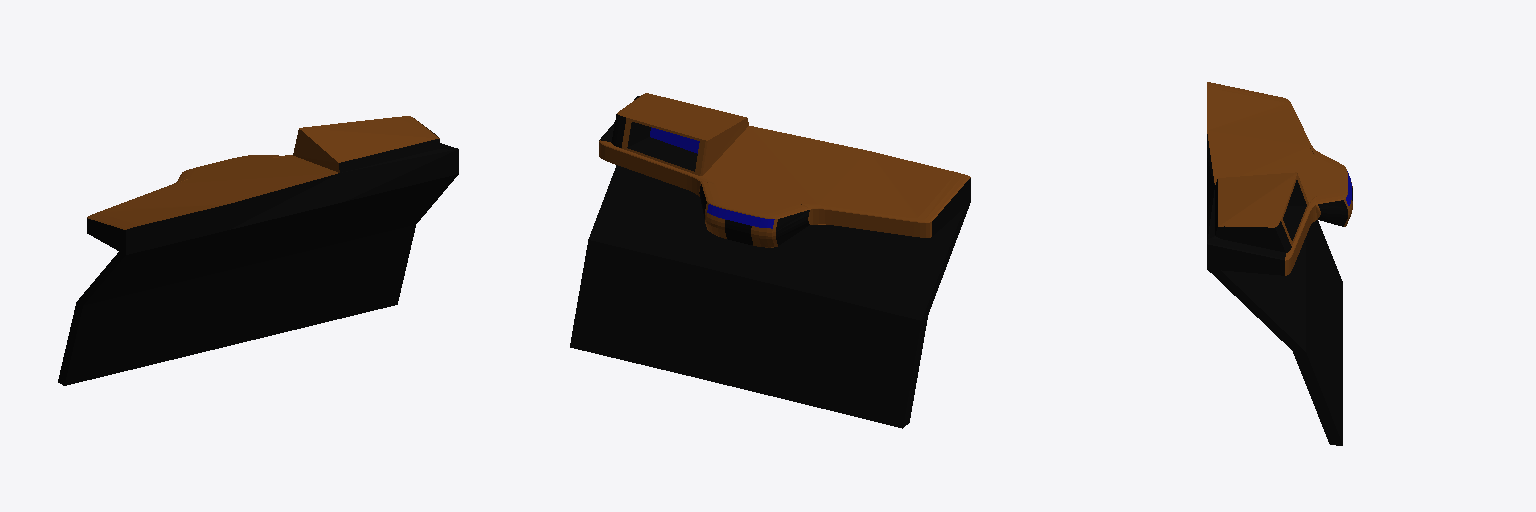
The model's file is dashboard.obj.
3 renders of one model, left to right at view 1: azimuth 30°, elevation 25°; view 2: azimuth 150°, elevation 25°; view 3: azimuth 270°, elevation 25°, orthographic.
Parts seen in each view (by area): view 1: Cube.003_Cube.011; view 2: Cube.003_Cube.011; view 3: Cube.003_Cube.011.
Part boxes in pixels (bbox=[...]): Cube.003_Cube.011: bbox=[58, 116, 458, 385]; Cube.003_Cube.011: bbox=[570, 93, 970, 428]; Cube.003_Cube.011: bbox=[1207, 82, 1352, 445].
Bounding box in the file's own units: 6.12 × 3.82 × 2.32.